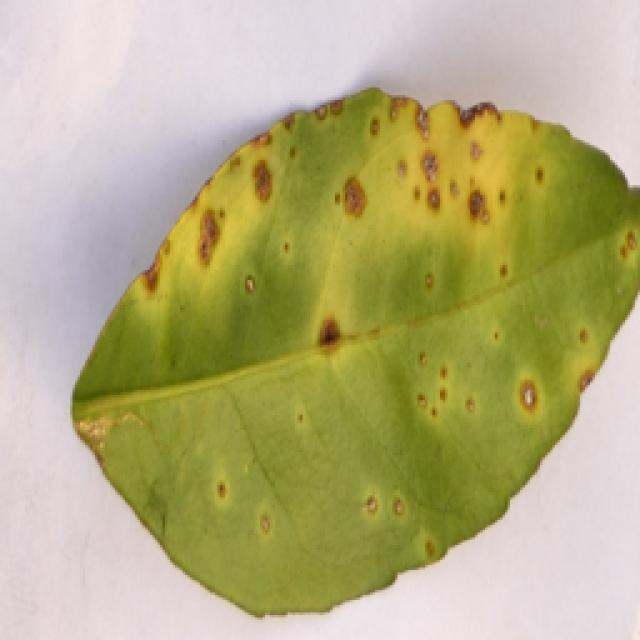canker: (66, 95, 624, 595)
